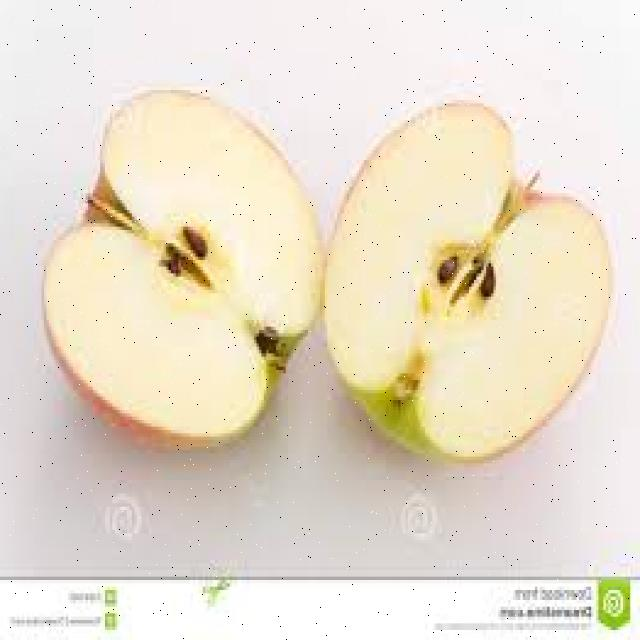Apple: (325, 106, 615, 460), (45, 91, 320, 446)
